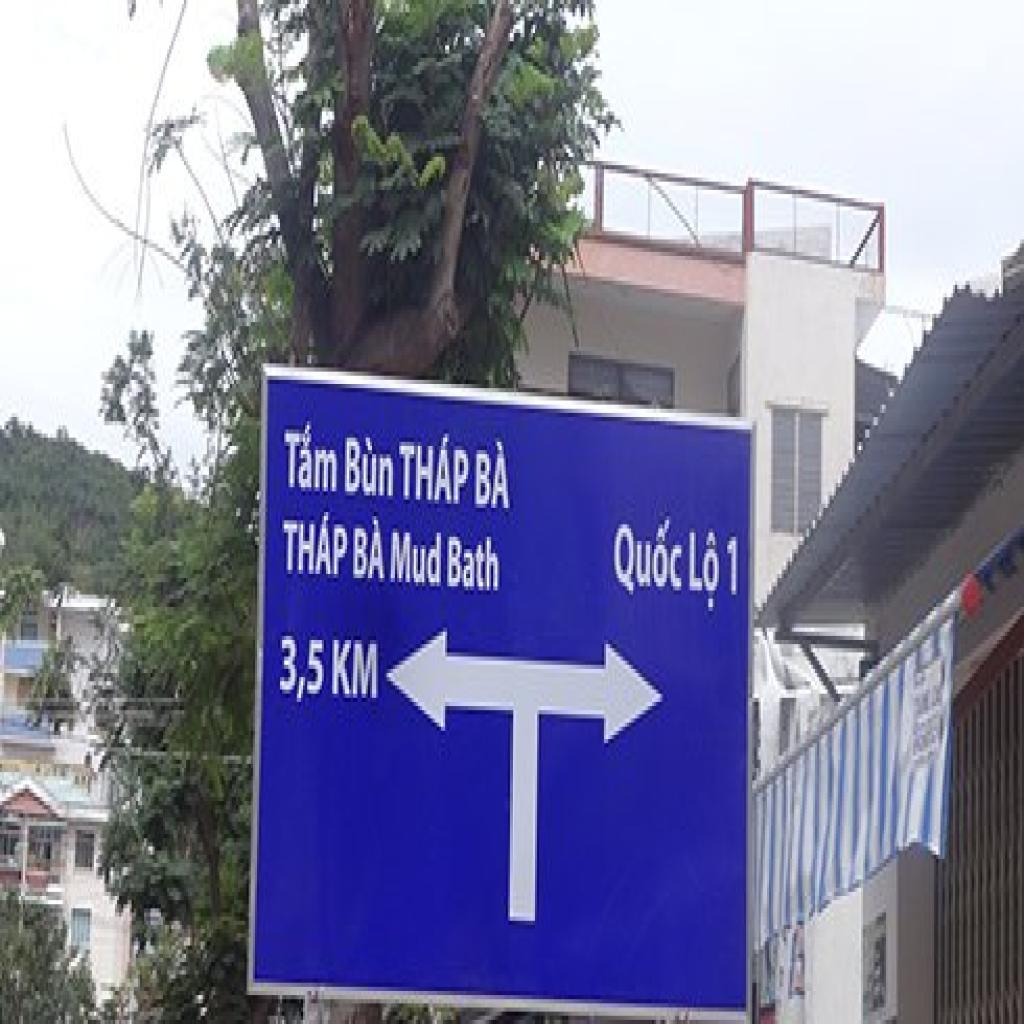text: (397, 421, 472, 516), (614, 508, 686, 599), (280, 508, 351, 586), (282, 417, 341, 500), (278, 628, 328, 710), (343, 429, 397, 504), (389, 524, 445, 594), (330, 632, 382, 706), (445, 532, 502, 598), (472, 434, 514, 516), (688, 524, 723, 616), (351, 508, 389, 590), (725, 528, 742, 603)
